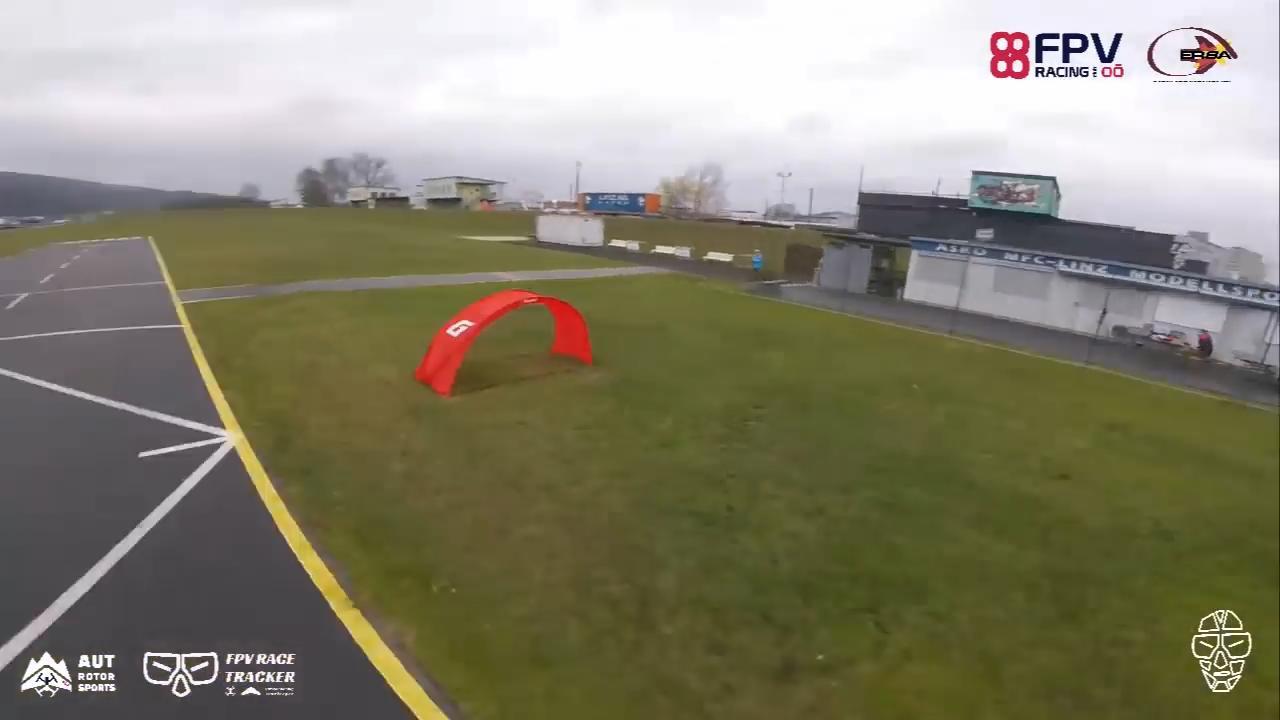gate: (406, 288, 597, 398)
